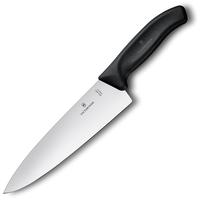knife: (1, 8, 190, 196)
